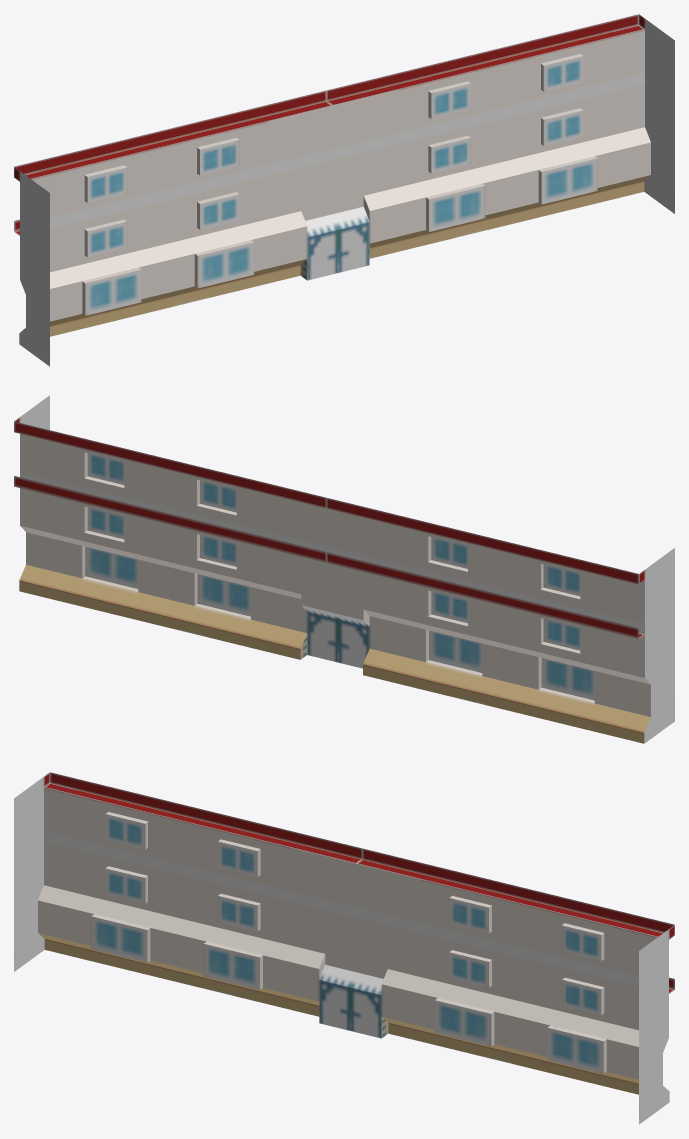
The model's file is m_cityhall.fbx.
3 renders of one model, top to bottom at view 1: azimuth 30°, elevation 25°; view 2: azimuth 150°, elevation 25°; view 3: azimuth 330°, elevation 25°, orthographic.
Parts seen in each view (by area): view 1: Cube.020; view 2: Cube.020; view 3: Cube.020.
Part boxes in pixels (left/top/right/bottom): Cube.020: left=14, top=14, right=674, bottom=366; Cube.020: left=14, top=395, right=674, bottom=743; Cube.020: left=14, top=772, right=674, bottom=1124.
Size of the model in its own units: 6023 by 1600 by 600.
1 material, 1 textured.
